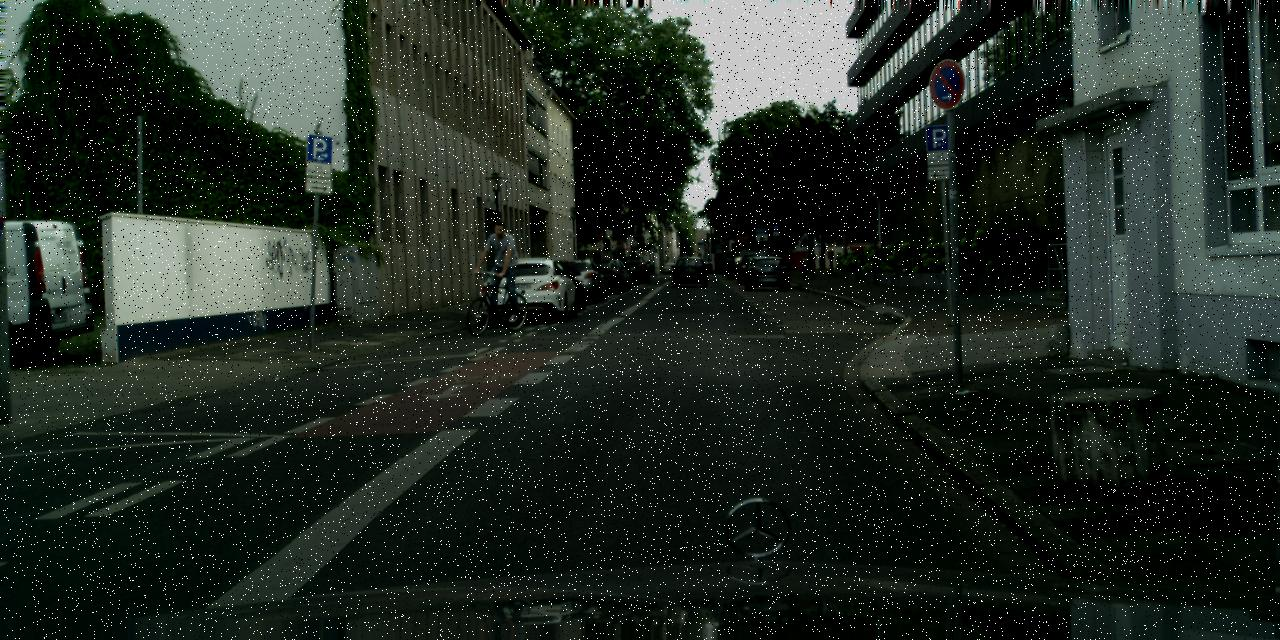ped: (482, 221, 520, 317), (805, 248, 817, 278)
